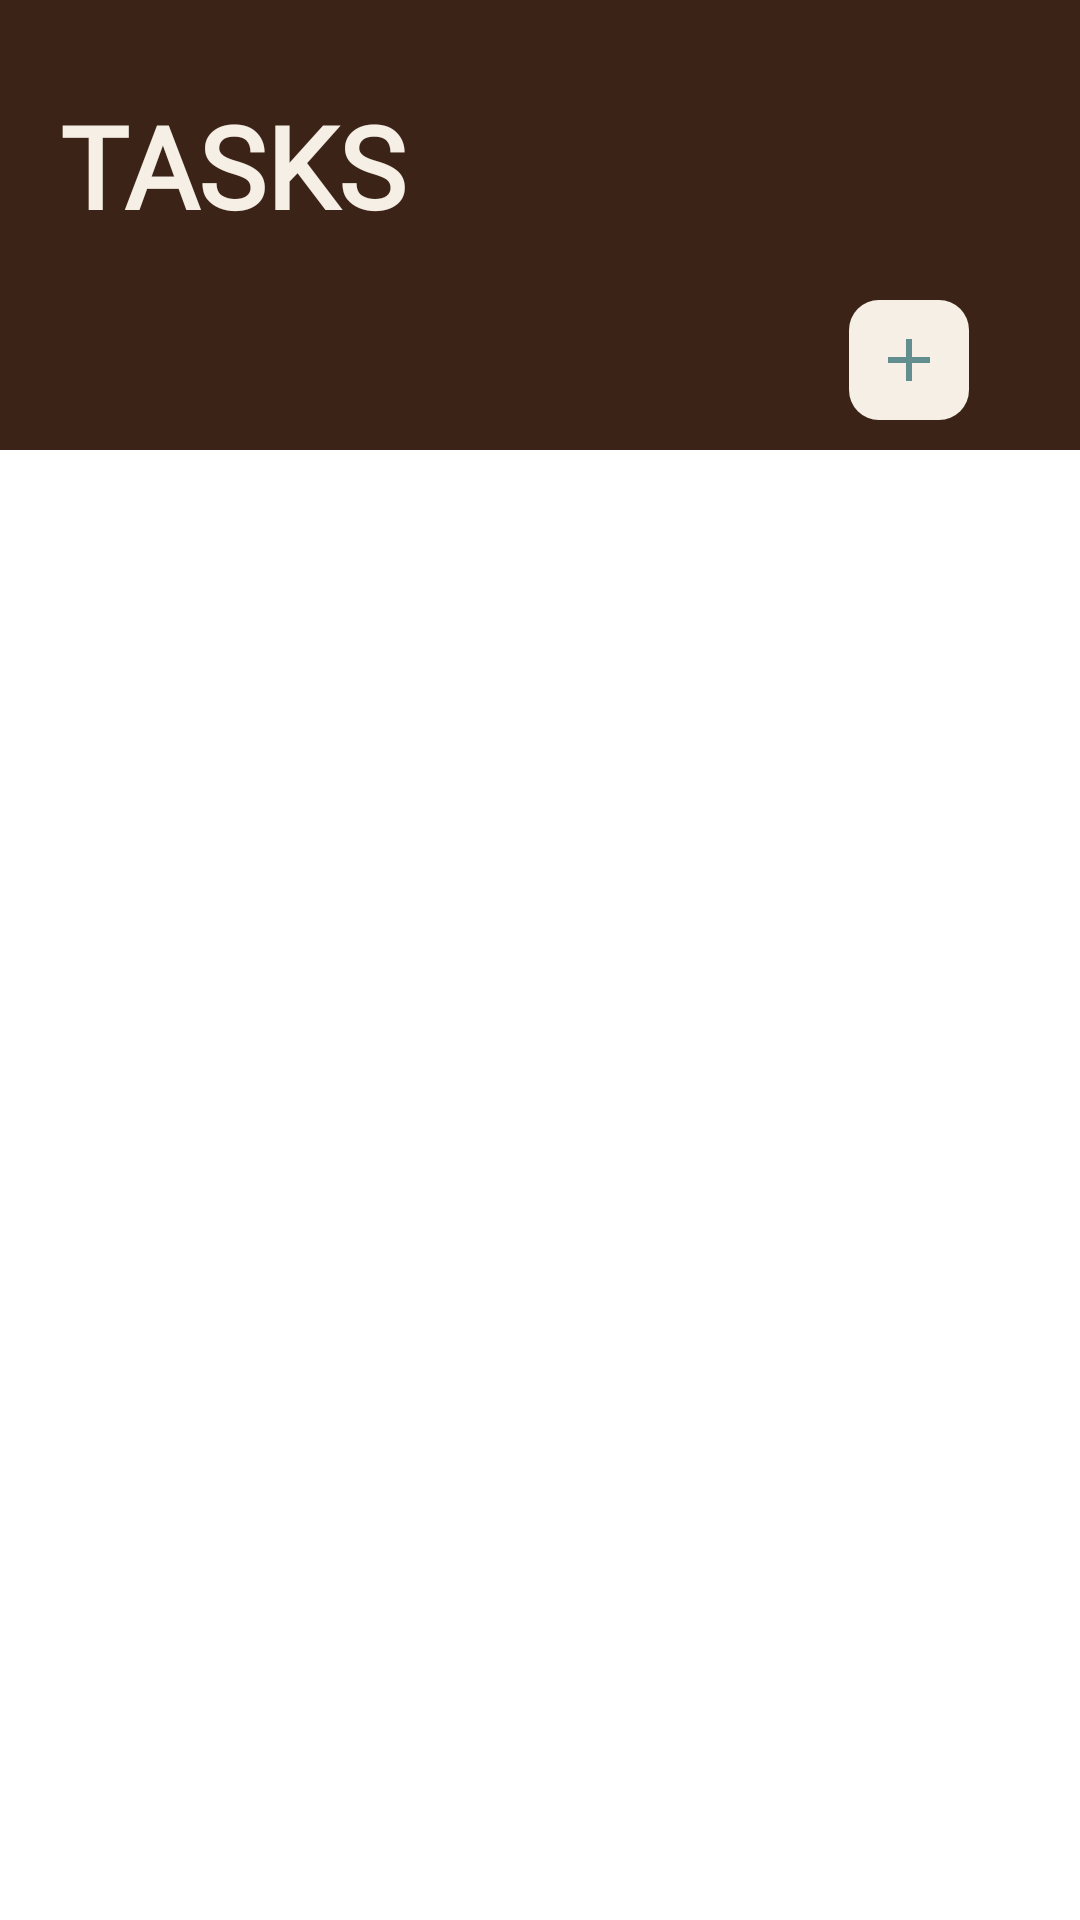

Where icons sit on this 1080w x 1920h app screen, as (x1, y1, x2, y2):
add: (849, 300, 969, 420)
